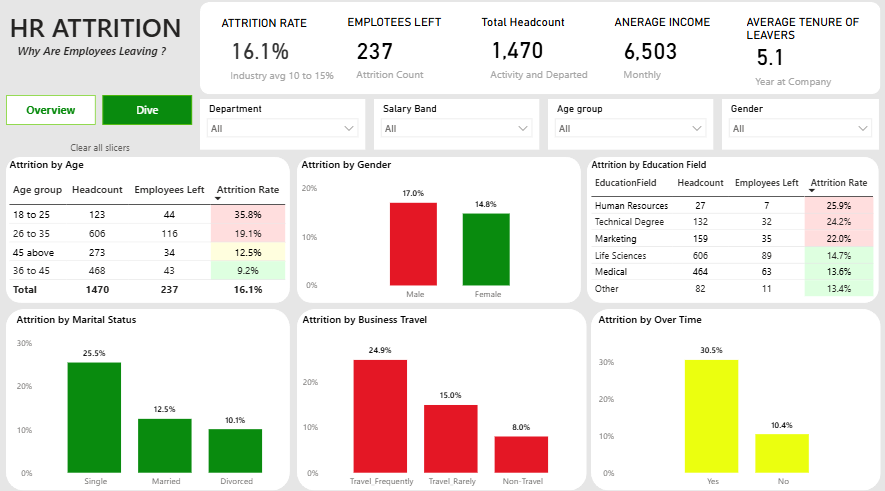

The dashboard page shown, as its layout file describes it:
{"tool":"powerbi","page":{"name":"Dive","canvas":[1280,720],"ordinal":1},"visuals":[{"type":"shape","box":[290,11.4,980,132.9],"z":0},{"type":"textbox","box":[10,17.1,270,110],"z":1000},{"type":"advanceCardE03760C5AB684758B56AA29F9E6C257B","title":"Total Headcount","fields":{"mainMeasure":["HR-Employee-Attrition.Total Headcount"]},"box":[682.4,20.2,203.4,115.6],"z":2000},{"type":"advanceCardE03760C5AB684758B56AA29F9E6C257B","title":"AVERAGE TENURE OF LEAVERS","fields":{"mainMeasure":["HR-Employee-Attrition.AVERAGE TENURE OF LEAVERS"]},"box":[1064.2,20.2,203,116.6],"z":3000},{"type":"advanceCardE03760C5AB684758B56AA29F9E6C257B","title":"ANERAGE INCOME","fields":{"mainMeasure":["HR-Employee-Attrition.AVERAGE INCOME"]},"box":[873.5,20.2,203,116.6],"z":4000},{"type":"advanceCardE03760C5AB684758B56AA29F9E6C257B","title":"ATTRITION RATE","fields":{"mainMeasure":["HR-Employee-Attrition.ATTRITION RATE"]},"box":[307.5,20.9,203,116.4],"z":5000},{"type":"advanceCardE03760C5AB684758B56AA29F9E6C257B","title":"EMPLOTEES LEFT","fields":{"mainMeasure":["HR-Employee-Attrition.EMPLOYEER LEFT"]},"box":[490.2,20.2,204.5,116.6],"z":6000},{"type":"slicer","fields":{"Values":["HR-Employee-Attrition.Age group"]},"box":[790.6,151.2,237.6,73.4],"z":7000},{"type":"slicer","fields":{"Values":["HR-Employee-Attrition.Department"]},"box":[289.4,151.2,237.6,73.4],"z":8000},{"type":"slicer","fields":{"Values":["HR-Employee-Attrition.Salary Band"]},"box":[540,151.2,237.6,73.4],"z":9000},{"type":"actionButton","box":[64.8,194.4,161.3,50.4],"z":10000},{"type":"pageNavigator","box":[10.1,145.4,269.3,43.2],"z":11000},{"type":"slicer","fields":{"Values":["HR-Employee-Attrition.Gender"]},"box":[1041.1,151.2,226.1,73.4],"z":12000},{"type":"shape","box":[10,234.3,408.6,210],"z":13000},{"type":"pivotTable","title":"Attrition by Age","fields":{"Rows":["HR-Employee-Attrition.Age group"],"Values":["HR-Employee-Attrition.Total Headcount","HR-Employee-Attrition.EMPLOYEER LEFT","HR-Employee-Attrition.ATTRITION RATE"]},"box":[10,234.3,408.6,210],"z":14000},{"type":"shape","box":[428.6,234.3,408.6,210],"z":15000},{"type":"columnChart","title":"Attrition by Gender","fields":{"Category":["HR-Employee-Attrition.Gender"],"Y":["HR-Employee-Attrition.ATTRITION RATE"]},"box":[430,234.3,410,210],"z":16000},{"type":"shape","title":"Attrition by Education Field","box":[847.1,234.3,420,210],"z":17000},{"type":"pivotTable","title":"Attrition by Education Field","fields":{"Rows":["HR-Employee-Attrition.EducationField"],"Values":["HR-Employee-Attrition.Total Headcount","HR-Employee-Attrition.EMPLOYEER LEFT","HR-Employee-Attrition.ATTRITION RATE"]},"box":[848.6,235.7,417.1,210],"z":18000},{"type":"shape","box":[10,454.3,408.6,261.4],"z":19000},{"type":"columnChart","title":"Attrition by Marital Status","fields":{"Category":["HR-Employee-Attrition.MaritalStatus"],"Y":["HR-Employee-Attrition.ATTRITION RATE"]},"box":[20,458.6,408.6,261.4],"z":20000},{"type":"shape","box":[428.6,454.3,417.1,261.4],"z":21000},{"type":"columnChart","title":"Attrition by Business Travel","fields":{"Category":["HR-Employee-Attrition.BusinessTravel"],"Y":["HR-Employee-Attrition.ATTRITION RATE"]},"box":[431.4,458.6,408.6,261.4],"z":22000},{"type":"shape","box":[852.9,454.3,417.1,261.4],"z":23000},{"type":"columnChart","title":"Attrition by Over Time","fields":{"Category":["HR-Employee-Attrition.OverTime"],"Y":["HR-Employee-Attrition.ATTRITION RATE"]},"box":[858.6,458.6,408.6,261.4],"z":24000}]}

Visuals, with their boxes in screenshot pixels (x1, y1, x2, y2), scaled from the page's 1280x720 canvas onto the 885x491 screenshot:
shape: 201 8 878 98
textbox: 7 12 194 87
"Total Headcount" advanceCardE03760C5AB684758B56AA29F9E6C257B: 472 14 612 93
"AVERAGE TENURE OF LEAVERS" advanceCardE03760C5AB684758B56AA29F9E6C257B: 736 14 876 93
"ANERAGE INCOME" advanceCardE03760C5AB684758B56AA29F9E6C257B: 604 14 744 93
"ATTRITION RATE" advanceCardE03760C5AB684758B56AA29F9E6C257B: 213 14 353 94
"EMPLOTEES LEFT" advanceCardE03760C5AB684758B56AA29F9E6C257B: 339 14 480 93
slicer - HR-Employee-Attrition.Age group: 547 103 711 153
slicer - HR-Employee-Attrition.Department: 200 103 364 153
slicer - HR-Employee-Attrition.Salary Band: 373 103 538 153
actionButton: 45 133 156 167
pageNavigator: 7 99 193 129
slicer - HR-Employee-Attrition.Gender: 720 103 876 153
shape: 7 160 289 303
"Attrition by Age" pivotTable: 7 160 289 303
shape: 296 160 579 303
"Attrition by Gender" columnChart: 297 160 581 303
"Attrition by Education Field" shape: 586 160 876 303
"Attrition by Education Field" pivotTable: 587 161 875 304
shape: 7 310 289 488
"Attrition by Marital Status" columnChart: 14 313 296 490
shape: 296 310 585 488
"Attrition by Business Travel" columnChart: 298 313 581 490
shape: 590 310 878 488
"Attrition by Over Time" columnChart: 594 313 876 490
